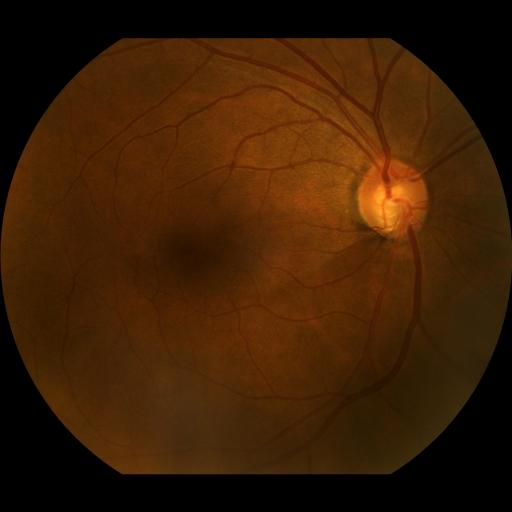Optic Cup: (374, 184, 412, 232)
Optic Disc: (358, 158, 429, 240)
